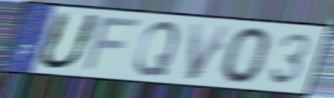3: (269, 32, 312, 86)
F: (80, 17, 145, 73)
O: (218, 26, 274, 86)
Q: (132, 19, 182, 78)
U: (34, 10, 104, 72)
V: (186, 21, 234, 82)
